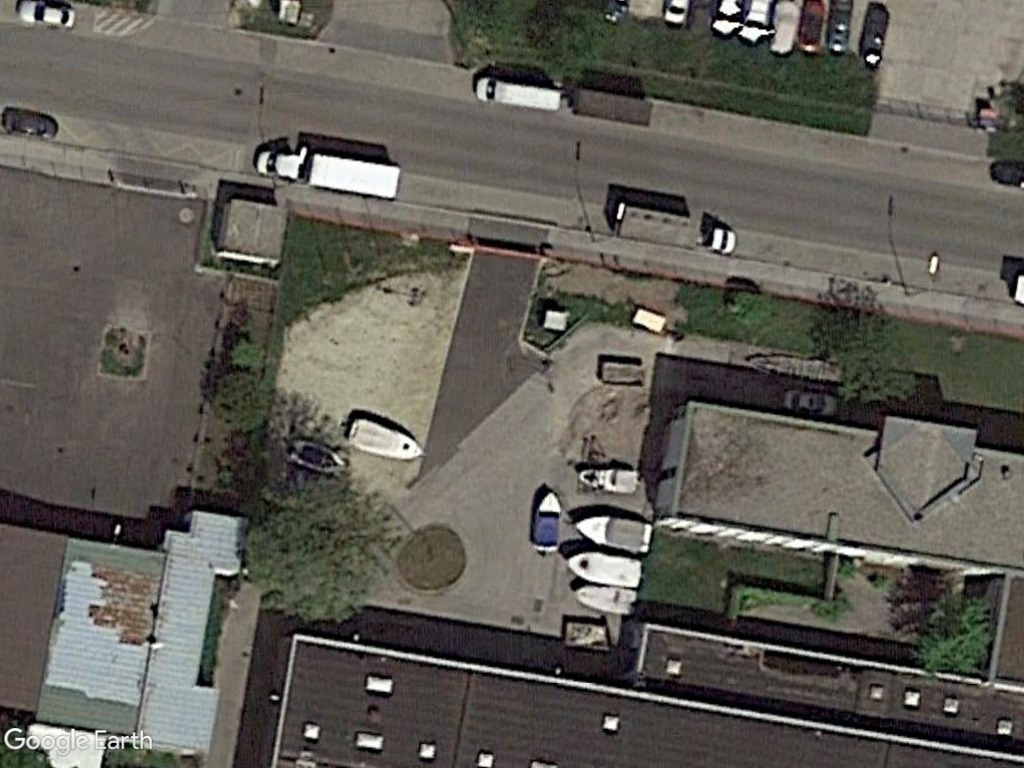boat: (571, 511, 656, 558), (348, 415, 424, 464), (565, 545, 645, 586), (526, 487, 567, 559), (571, 578, 641, 618)
truck: (254, 142, 405, 203)
van: (475, 70, 568, 115)
